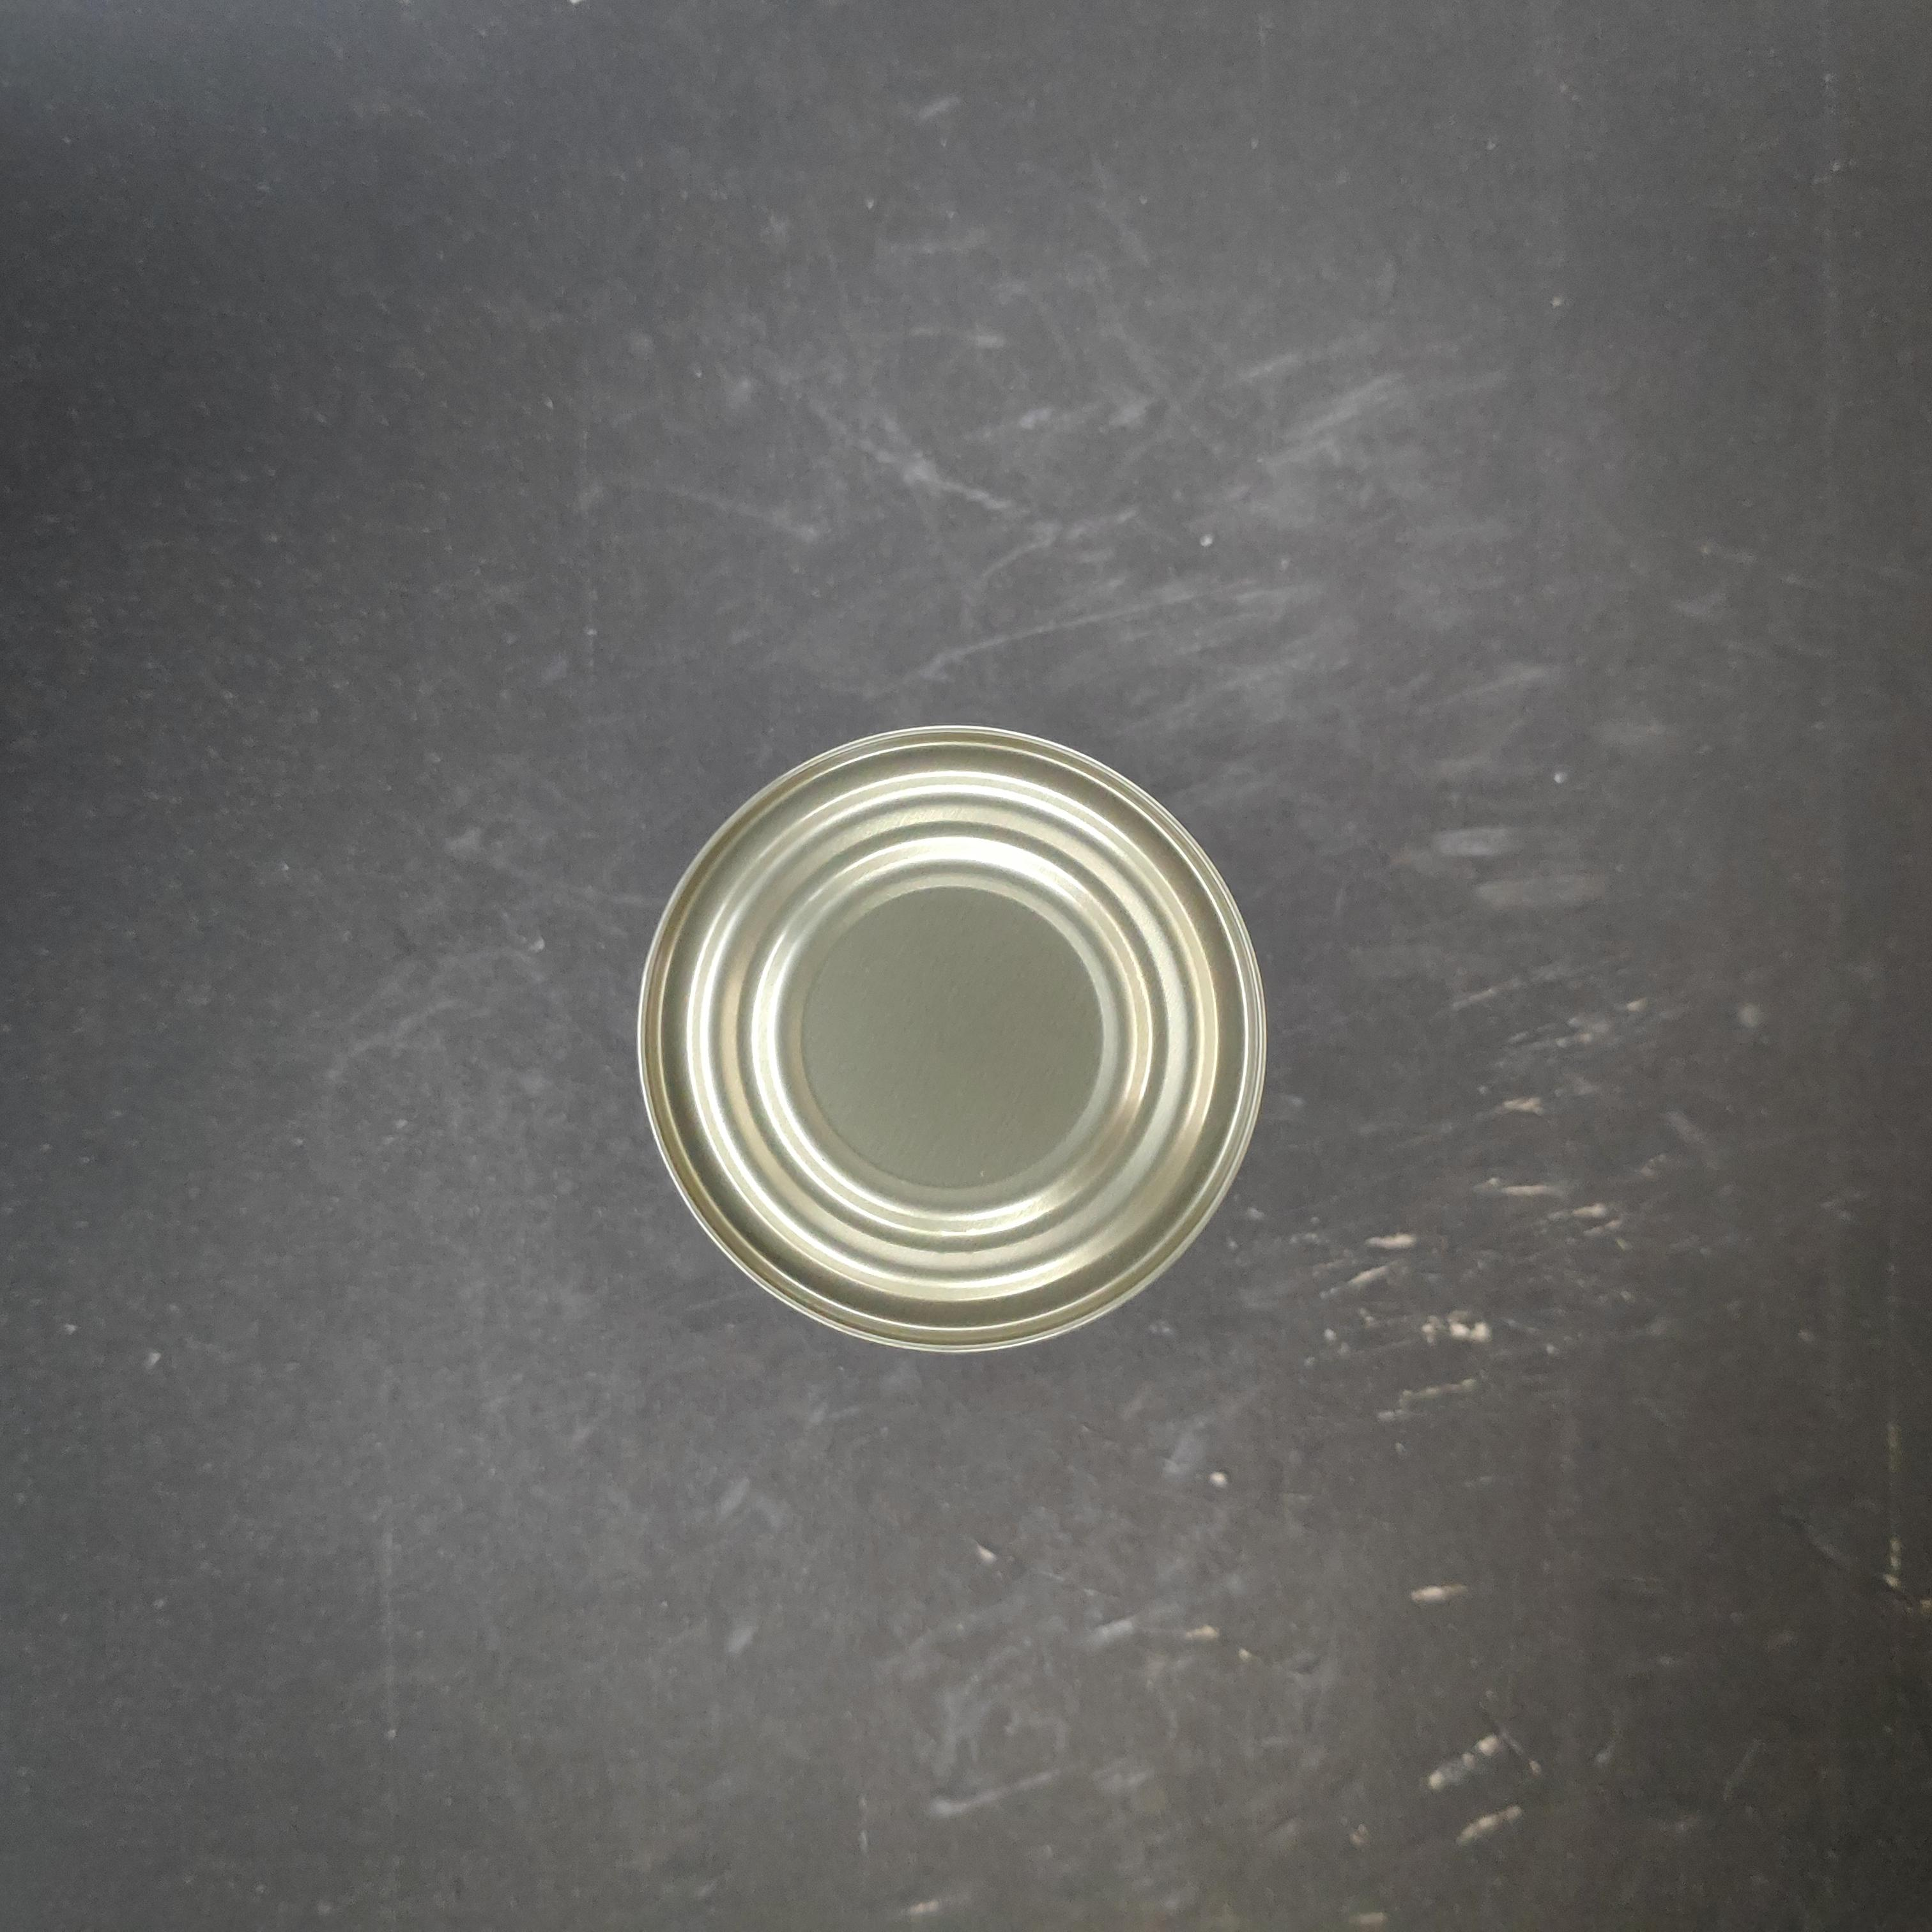No defect: (579, 635, 1210, 1270)
